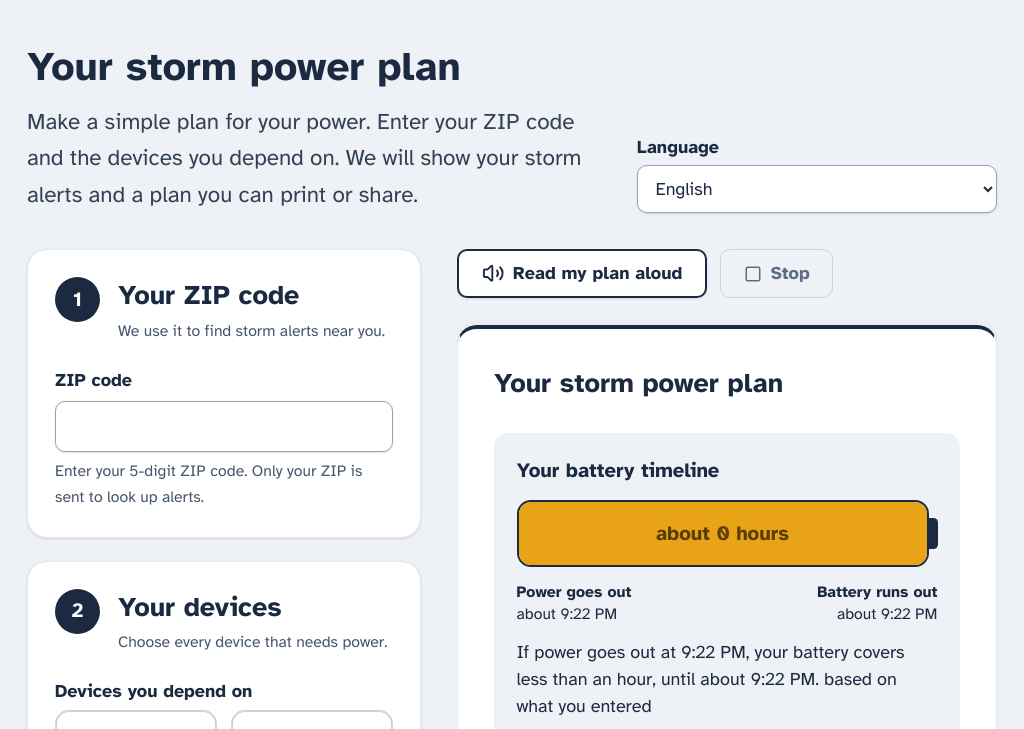
it: PlanPage — alerts for ZIP (Req 5.1) › renders the alert headline, severity, and data-source badge for a valid ZIP
This screenshot has width=1024, height=729.
Step 1. Type "02139" into the field labelled "ZIP code" → [224, 426], box [55, 401, 393, 452]
(page scrolled)
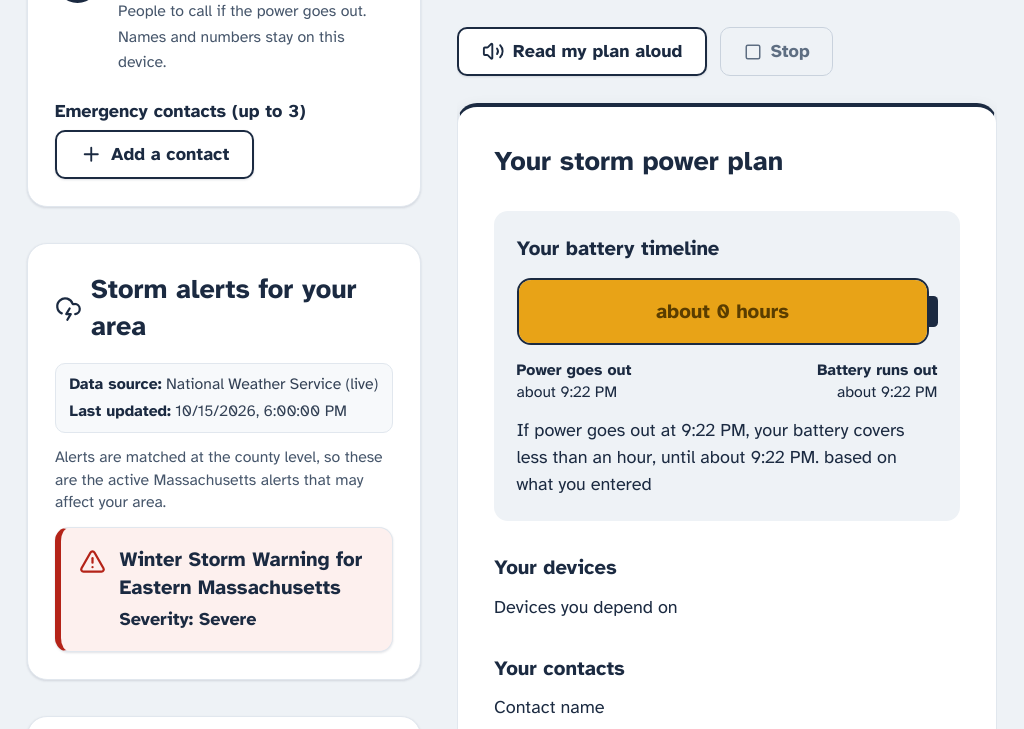
expect the text "Winter Storm Warning for Eastern Massachusetts" is shown: met, box [120, 546, 374, 602]
expect the text "Severity: Severe" is shown: met, box [120, 608, 256, 630]
expect the text "National Weather Service (live)" is shown: met, box [166, 373, 378, 396]
